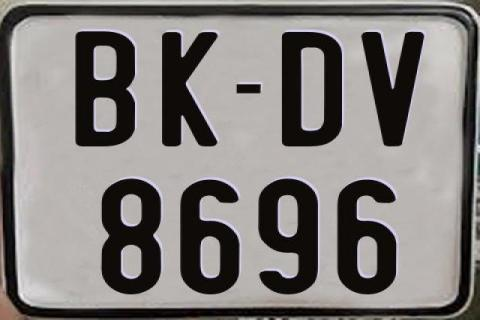0: (178, 178, 240, 298), (255, 178, 315, 298), (100, 178, 161, 296), (336, 178, 396, 296)
B: (75, 30, 138, 148)
D: (282, 30, 344, 148)
K: (160, 31, 222, 147)
V: (359, 32, 424, 147)
